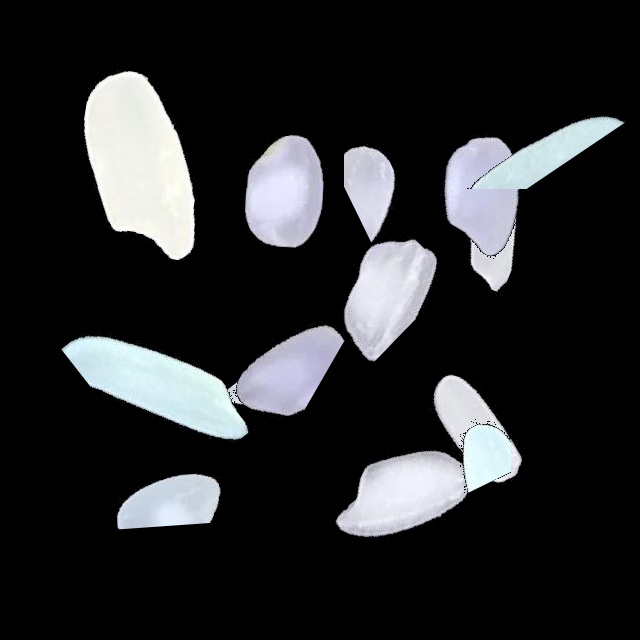Broken: (59, 280, 309, 453), (274, 136, 438, 386), (129, 269, 379, 421), (96, 333, 232, 583), (381, 58, 631, 189), (218, 302, 342, 552), (344, 49, 468, 299), (429, 320, 511, 570), (65, 377, 315, 457)
Full: (370, 95, 620, 345), (350, 305, 600, 555), (279, 373, 529, 623), (359, 68, 609, 318), (160, 67, 410, 317), (15, 37, 265, 287)
